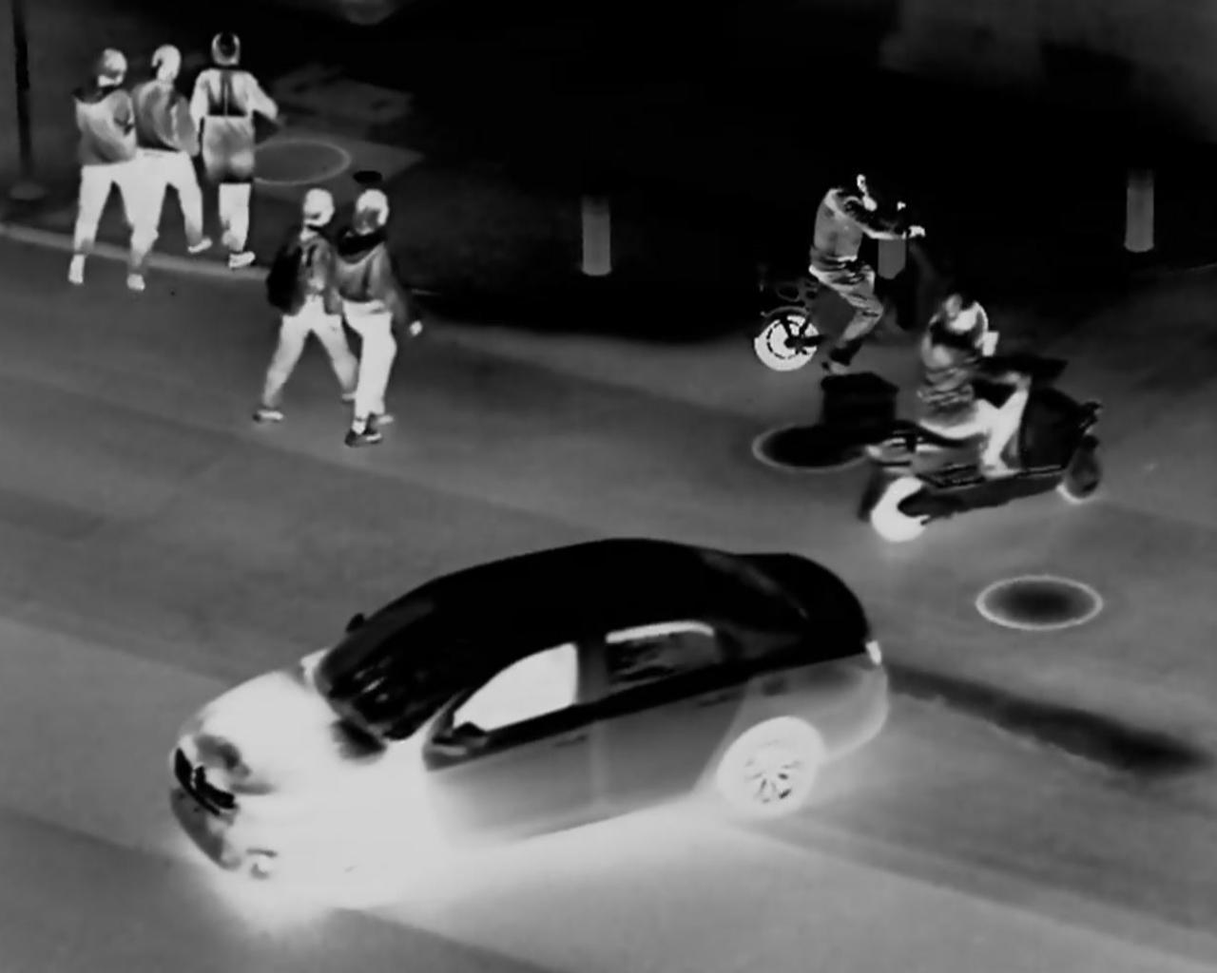person: (61, 36, 154, 290), (269, 176, 357, 436), (918, 284, 1031, 484), (802, 161, 902, 364), (128, 45, 208, 293), (196, 24, 274, 276), (340, 187, 419, 435)
